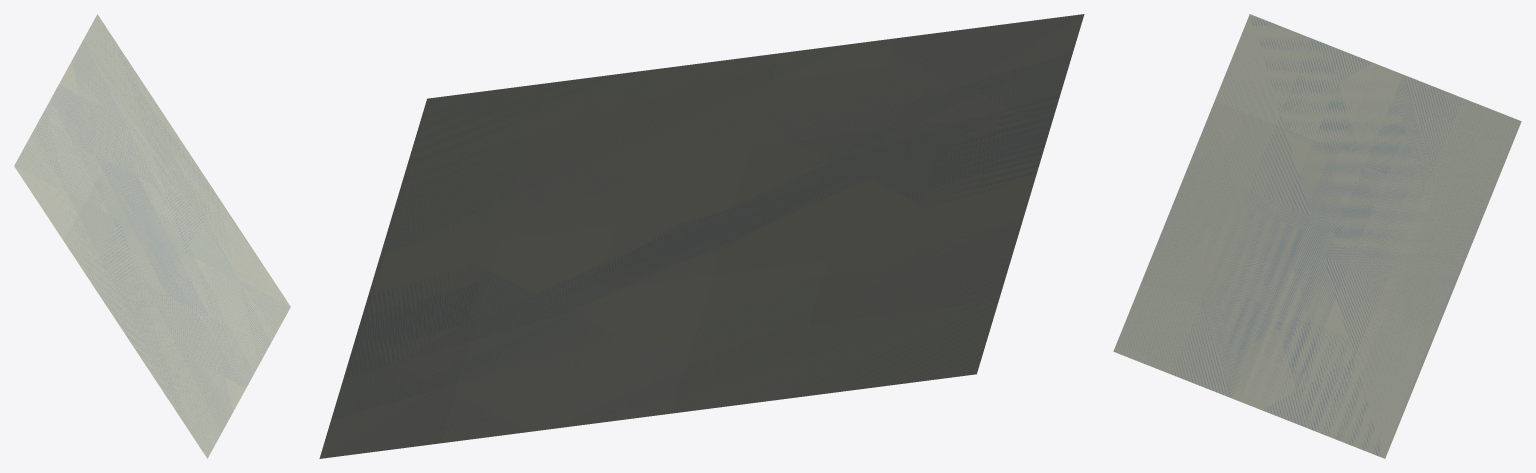
Rendered from 人民英雄纪念碑197.dae.
3 views of the same model, side by side, from view 1: azimuth 30°, elevation 25°; view 2: azimuth 150°, elevation 25°; view 3: azimuth 270°, elevation 25° (orthographic). The views are drawn at different scales.
Visible parts, largest first — view 1: SketchUp; view 2: SketchUp; view 3: SketchUp.
Part boxes in pixels (x1,y1,x2,y2): SketchUp: (14, 14, 290, 458); SketchUp: (319, 14, 1084, 458); SketchUp: (1113, 14, 1521, 458).
Bounding box in the file's own units: 12.65 × 12.92 × 9.63.
